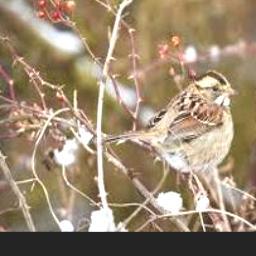Sparrow: (102, 71, 240, 188)
